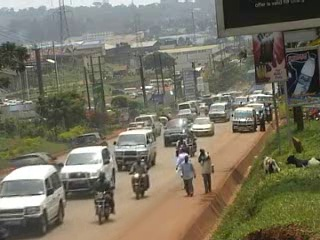Car: (0, 160, 68, 236), (58, 142, 116, 200), (8, 149, 65, 183), (161, 116, 193, 150), (70, 128, 109, 155), (186, 114, 219, 143), (125, 117, 152, 136), (175, 106, 196, 122)
Motorcycle: (88, 170, 116, 223), (126, 153, 150, 199), (173, 132, 190, 166), (183, 127, 197, 159), (157, 109, 169, 128), (200, 101, 210, 117)
